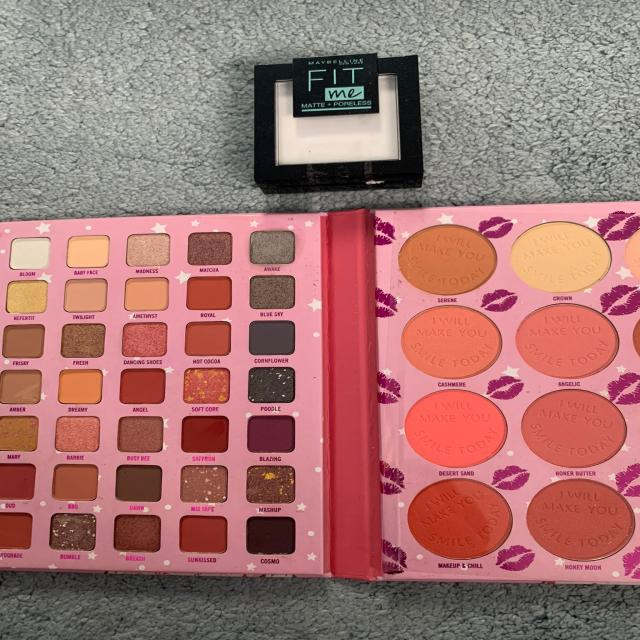bronzer: (375, 213, 640, 576)
eye shade: (0, 216, 309, 566)
powder: (247, 51, 428, 188)
